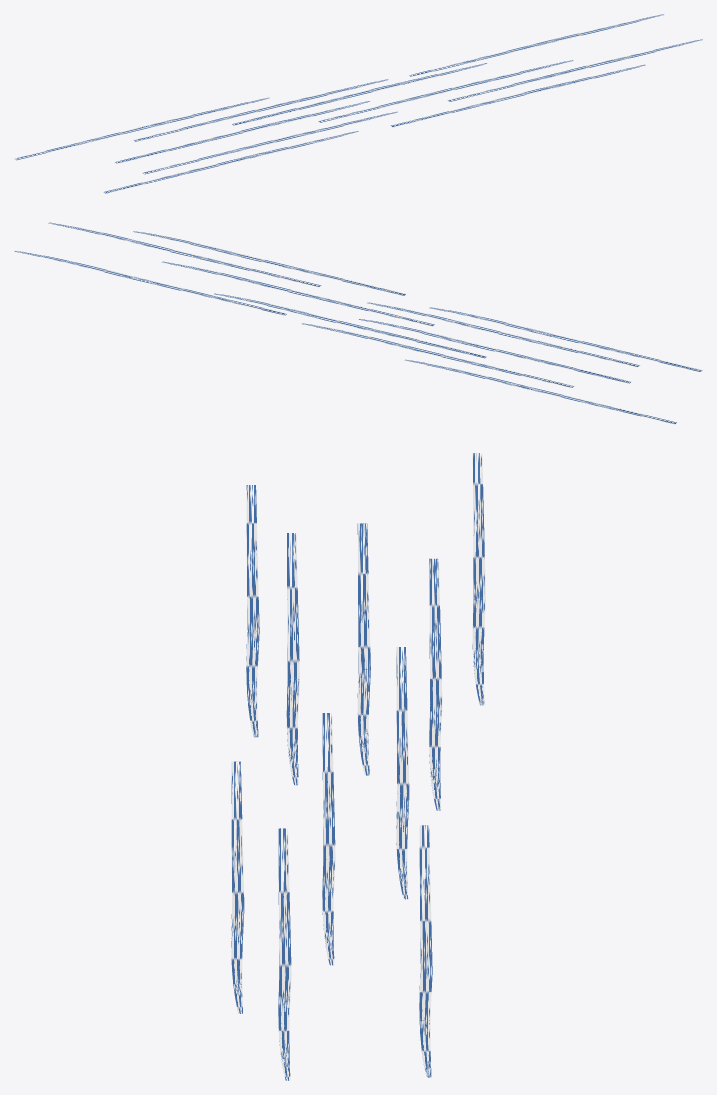
File: Wind9.fbx
The picture shows the model from 3 angles, top to bottom: view 1: azimuth 30°, elevation 25°; view 2: azimuth 150°, elevation 25°; view 3: azimuth 270°, elevation 25°; orthographic projection. The views are drawn at different scales.
Visible parts, largest first — view 1: SM_e_Env_e_201_Wind004; view 2: SM_e_Env_e_201_Wind004; view 3: SM_e_Env_e_201_Wind004.
Boxes of the visible parts, x1,y1,x2,y2 form: SM_e_Env_e_201_Wind004: [14, 14, 702, 193]; SM_e_Env_e_201_Wind004: [14, 222, 702, 424]; SM_e_Env_e_201_Wind004: [231, 453, 485, 1080].
Size of the model in its own units: 61296 by 136 by 10566.
